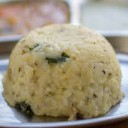venpongal: (14, 24, 122, 116)
